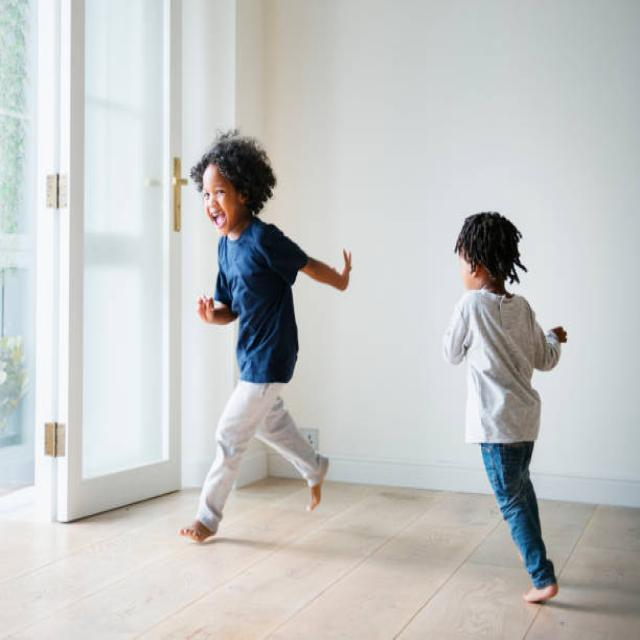Person: (180, 133, 351, 540), (445, 213, 567, 601)
